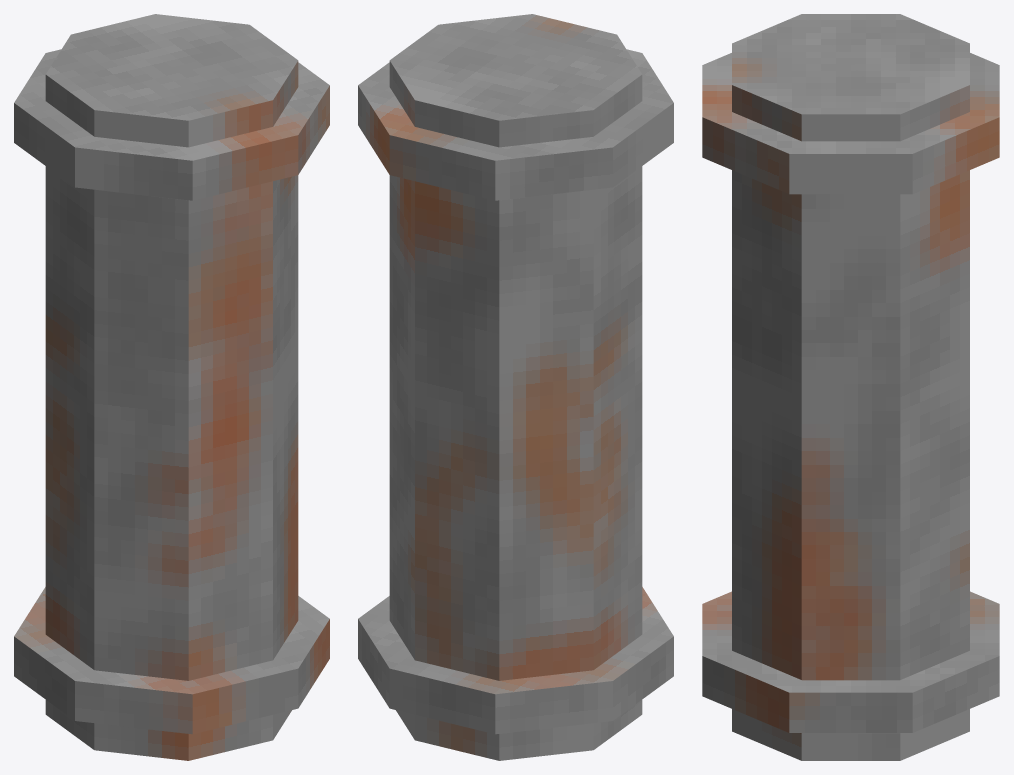
Rendered from pipe_straight.gltf.
3 renders of one model, left to right at view 1: azimuth 30°, elevation 25°; view 2: azimuth 150°, elevation 25°; view 3: azimuth 270°, elevation 25°, orthographic.
Visible parts, largest first — view 1: cylinder (×3); view 2: cylinder (×3); view 3: cylinder (×3).
Part boxes in pixels (bbox=[...]): cylinder (×3): bbox=[14, 14, 329, 760]; cylinder (×3): bbox=[358, 14, 673, 760]; cylinder (×3): bbox=[702, 14, 999, 760].
Size of the model in its own units: 1.25 by 3 by 1.25.
Materials: 1 (1 with a texture image).
